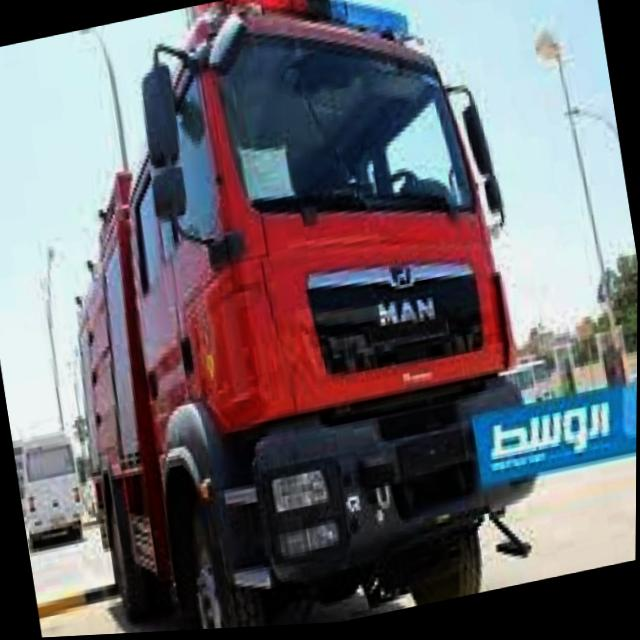emergency: (18, 0, 560, 639)
